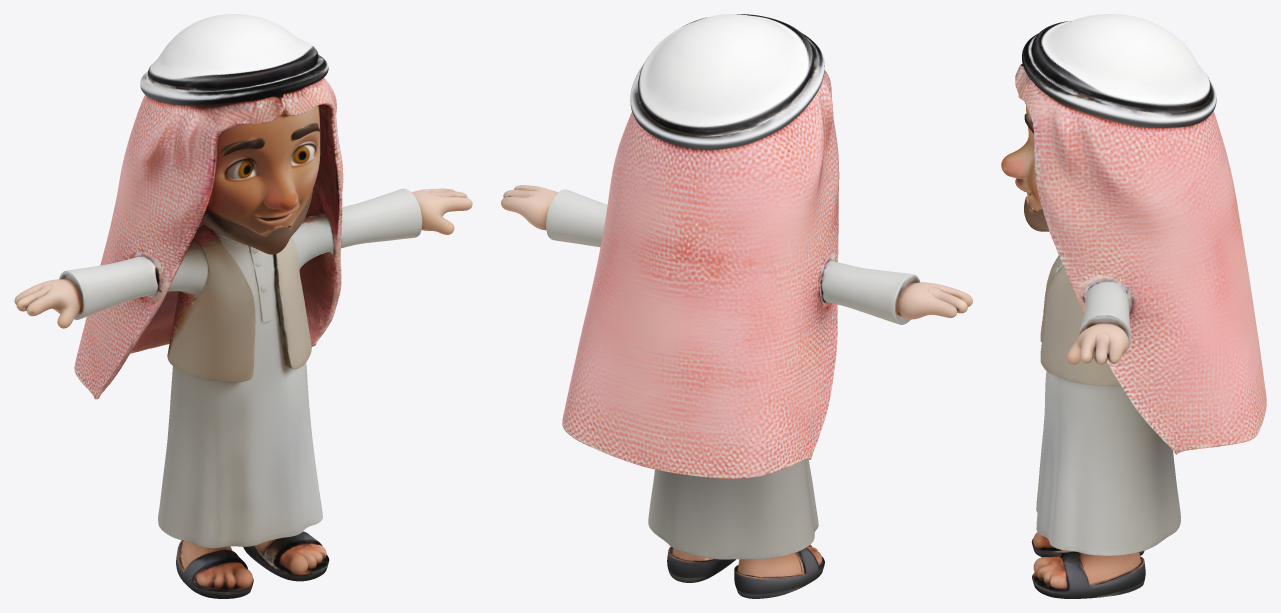
The model's file is FinalColoredGreeting.glb.
3 views of the same model, side by side, from view 1: azimuth 30°, elevation 25°; view 2: azimuth 150°, elevation 25°; view 3: azimuth 270°, elevation 25° (orthographic). The views are drawn at different scales.
Parts seen in each view (by area): view 1: model.001; view 2: model.001; view 3: model.001.
Boxes of the visible parts, x1=… form: model.001: x1=14, y1=14, x2=472, y2=598; model.001: x1=501, y1=14, x2=972, y2=598; model.001: x1=1001, y1=14, x2=1266, y2=598.
Size of the model in its own units: 1.53 by 1.75 by 0.7727.
Materials: 1 (1 with a texture image).
